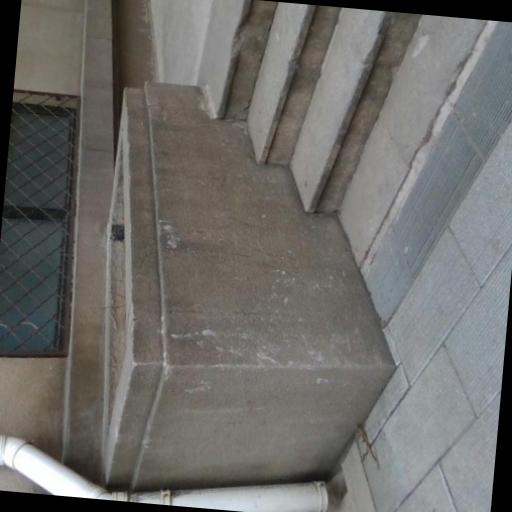stairs: (200, 0, 421, 211)
